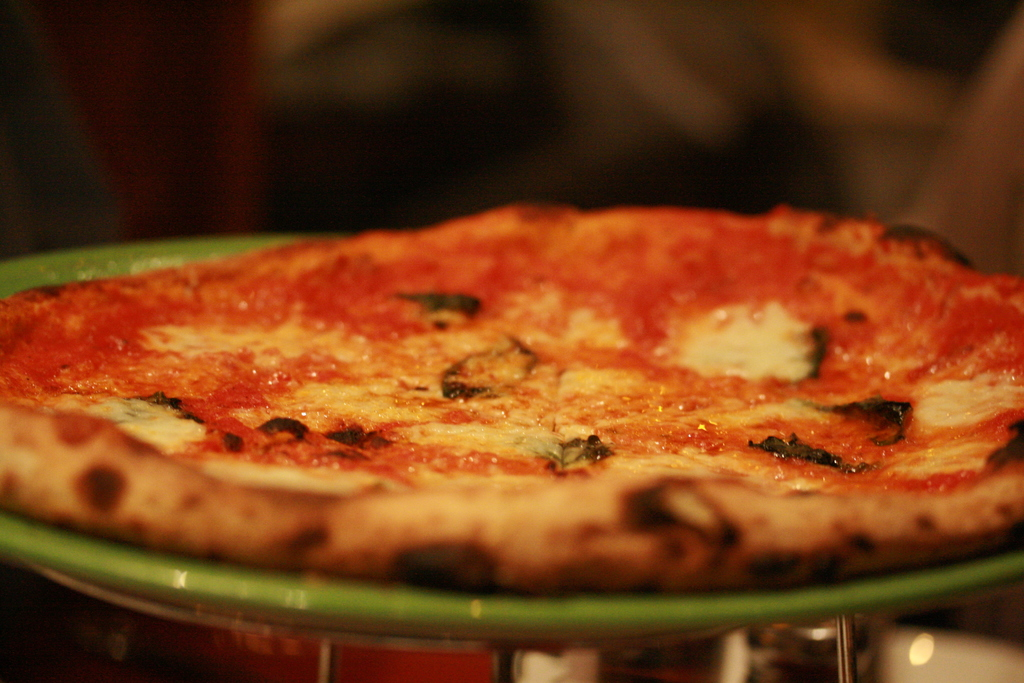Pizza: (0, 189, 1023, 601)
